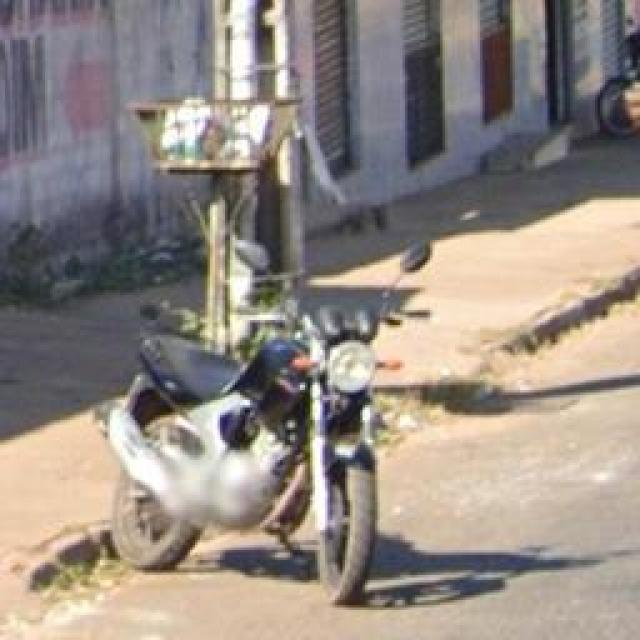motorbike: (86, 270, 412, 607)
